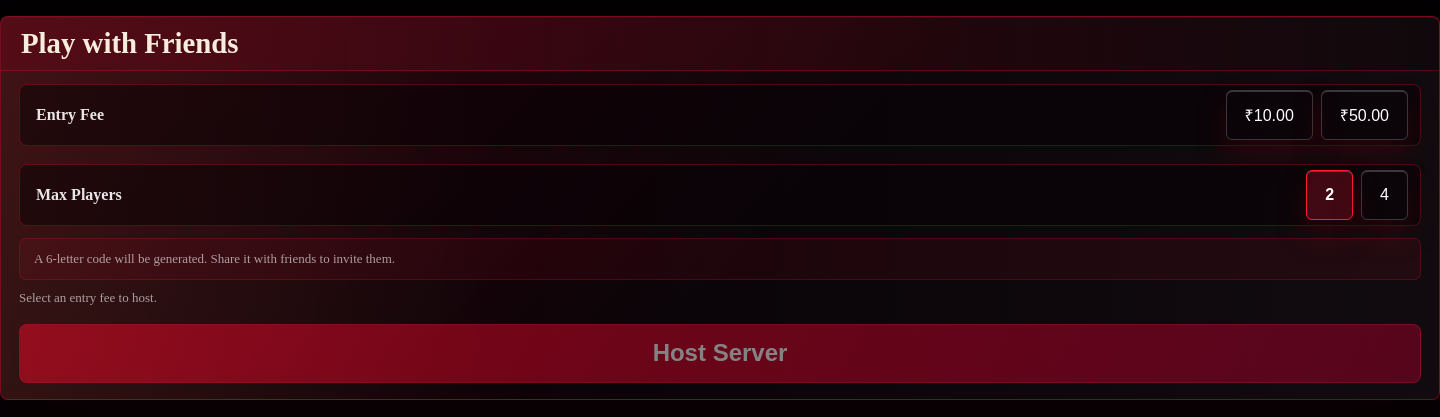
Scenario: AddServer — hosting a private room › creates the room with the chosen fee id, then joins it as host
What coordinates should you click on to do the following:
click the button "₹50.00"
I would click on:
 (1364, 115)
Its box is [1321, 90, 1408, 140].
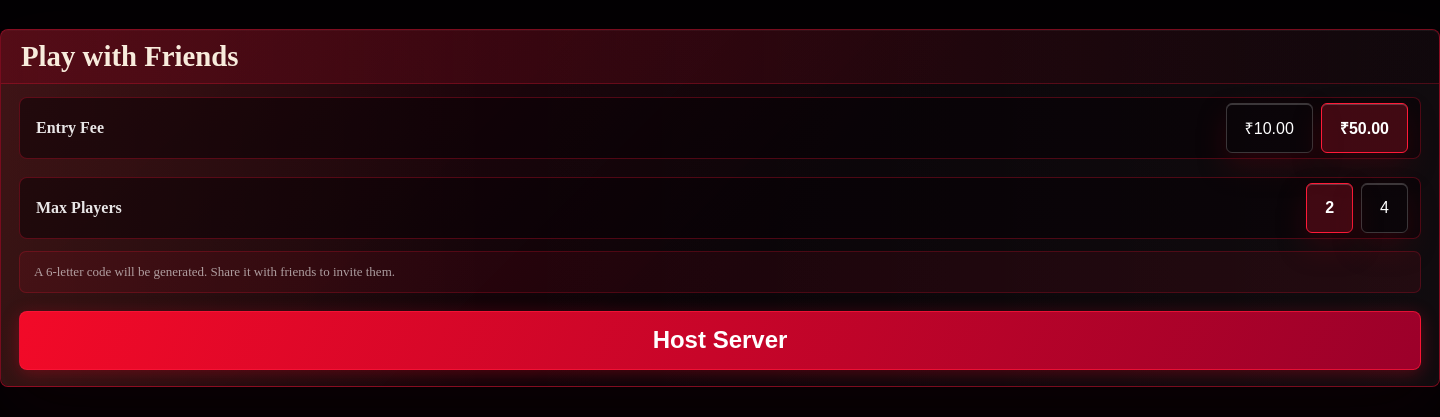
What coordinates should you click on to do the following:
click the button "Host Server"
I would click on:
 (720, 340)
Its box is [19, 311, 1421, 370].
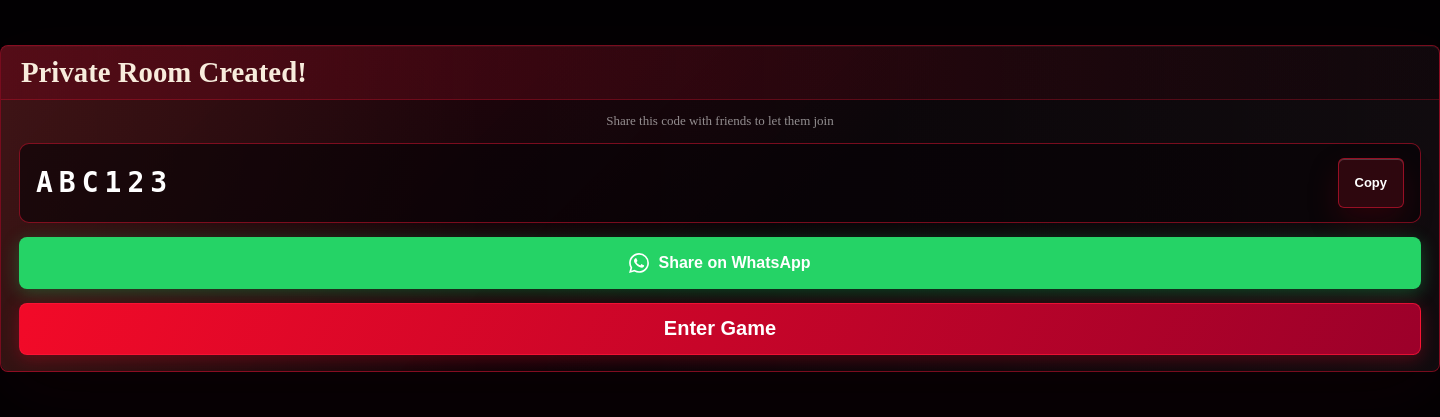
Now the text "ABC123" is shown, box [36, 166, 173, 199]
